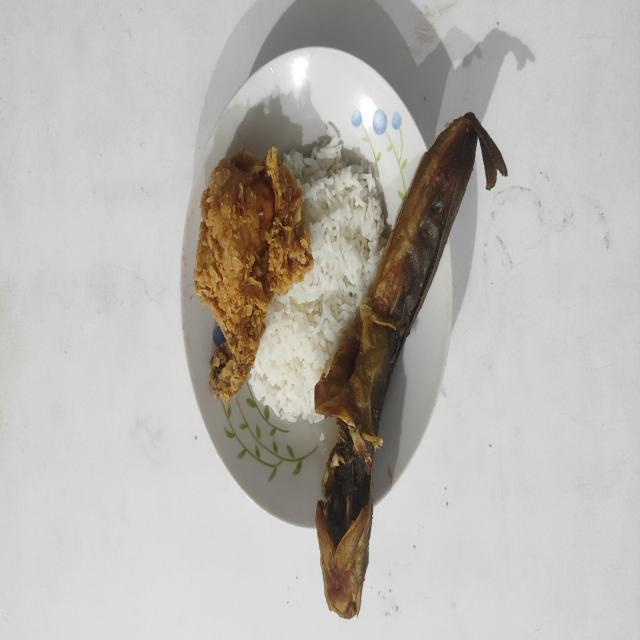nasi_putih: (248, 124, 386, 424)
